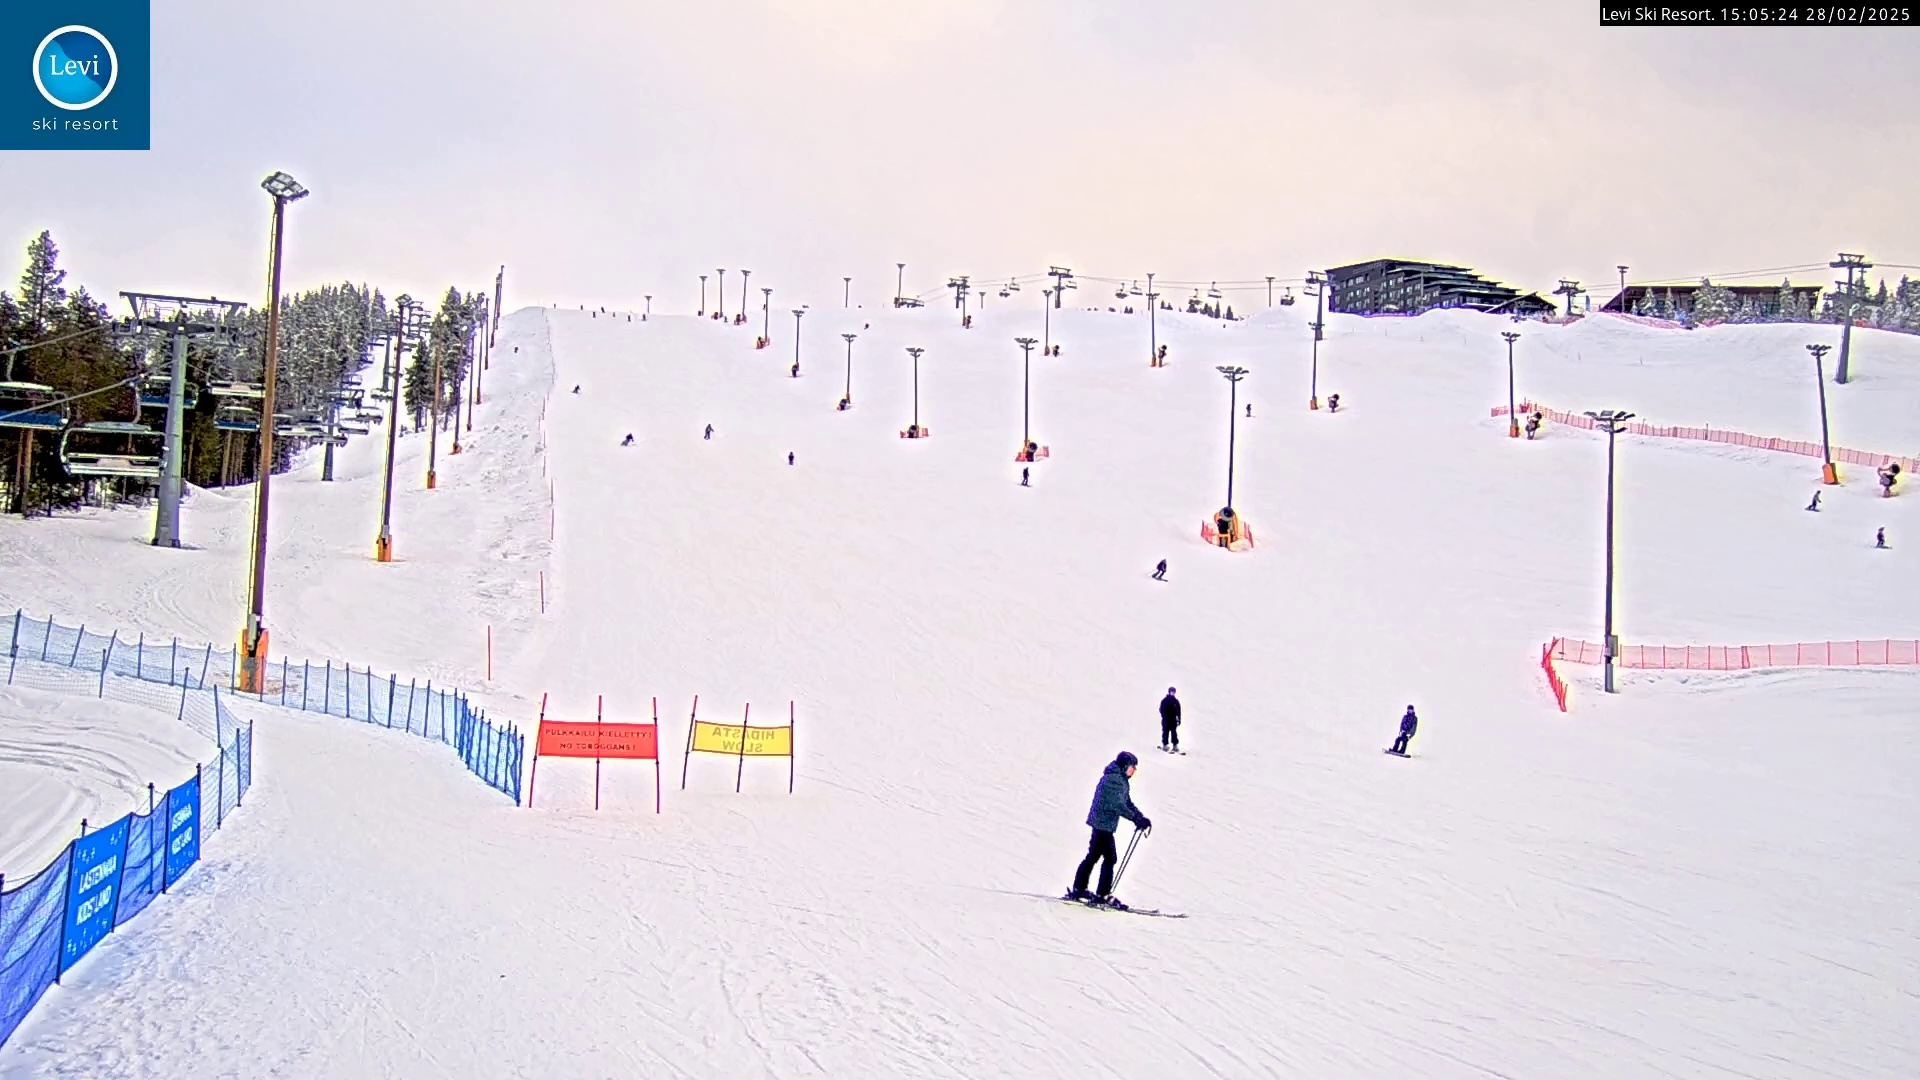skier: (1065, 746, 1192, 914), (1153, 687, 1188, 760)
snowboarder: (1386, 702, 1418, 757)
